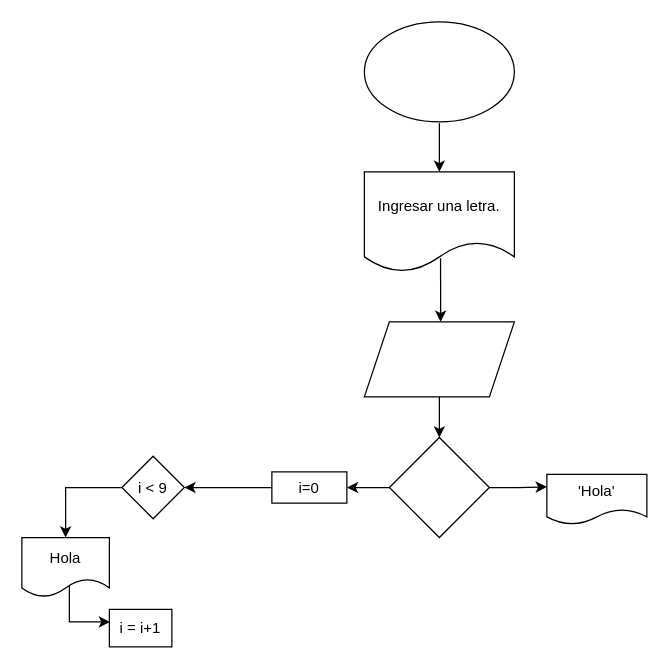
Image size: 669x669. Some labels were removed from this diagram. The box of each missing label's shape, as (x1, y1, x2, y2) in pixels:
Inicio: (363, 21, 514, 122)
Letra: (363, 321, 514, 397)
Letra = 'y': (388, 436, 489, 538)
